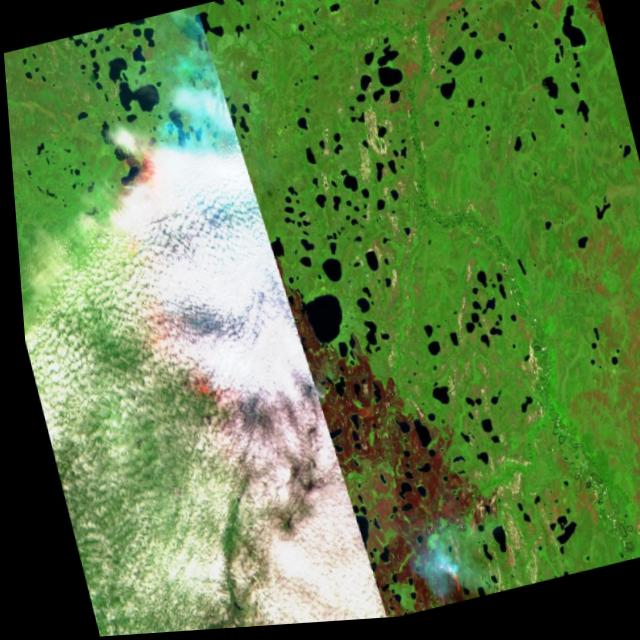fire: (66, 60, 460, 637)
